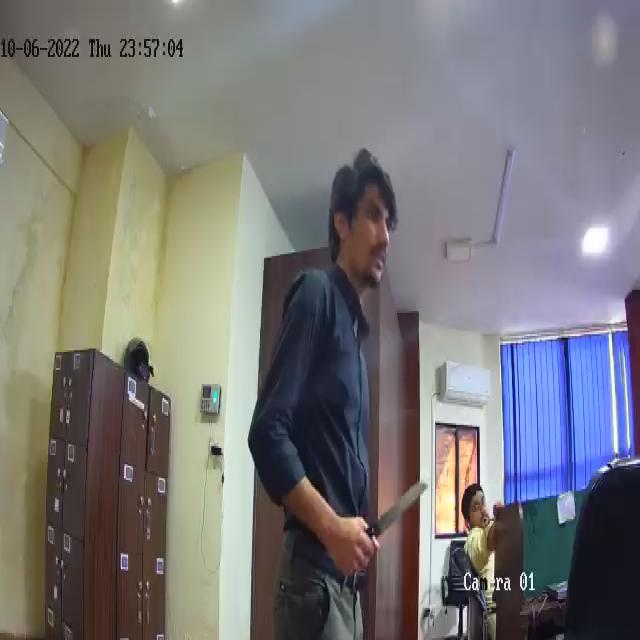weapon: (343, 474, 429, 572)
